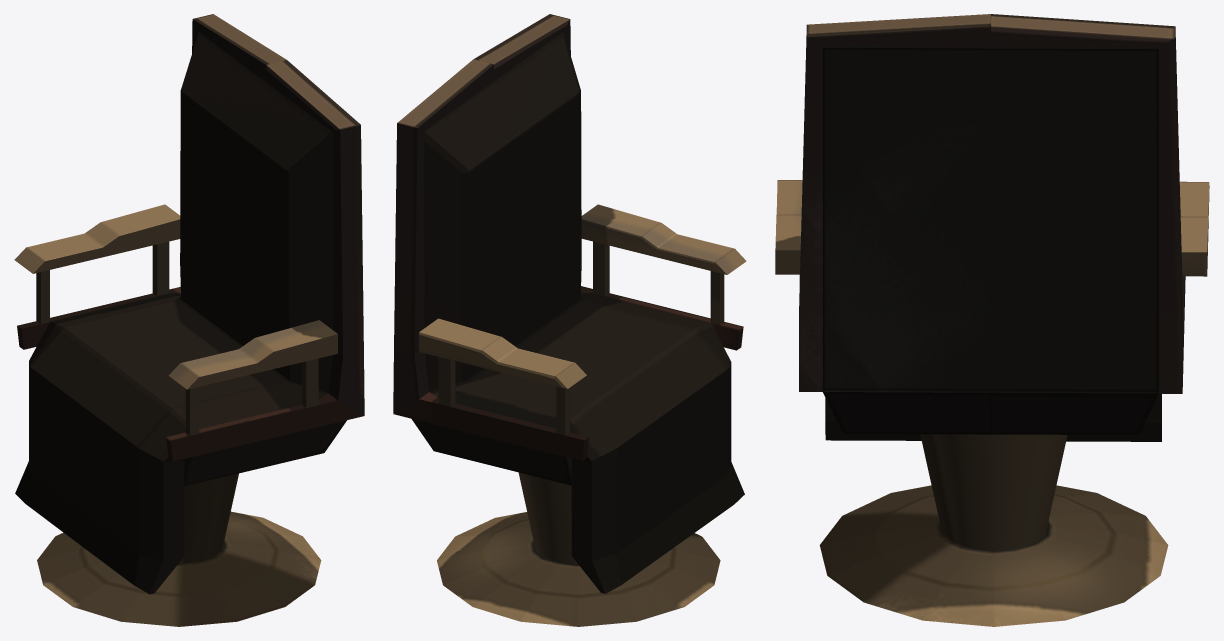
The model's file is Tx_prop_barber_chair_1.fbx.
The picture shows the model from 3 angles, left to right: view 1: azimuth 30°, elevation 25°; view 2: azimuth 150°, elevation 25°; view 3: azimuth 270°, elevation 25°; orthographic projection. The views are drawn at different scales.
Parts seen in each view (by area): view 1: polySurface37, polySurface33, polySurface40, polySurface34, polySurface36, polySurface38, polySurface35, polySurface39; view 2: polySurface37, polySurface33, polySurface40, polySurface39, polySurface38, polySurface36, polySurface35, polySurface34; view 3: polySurface37, polySurface33, polySurface40, polySurface35, polySurface38, polySurface36.
Boxes of the visible parts, box(x1,y1,x2,y2) form: polySurface37: box(15, 32, 333, 594); polySurface33: box(37, 473, 321, 626); polySurface40: box(192, 14, 364, 415); polySurface34: box(166, 358, 363, 461); polySurface36: box(168, 320, 337, 389); polySurface38: box(14, 204, 180, 273); polySurface35: box(184, 420, 346, 486); polySurface39: box(17, 241, 180, 349); polySurface37: box(424, 32, 744, 593); polySurface33: box(437, 417, 720, 626); polySurface40: box(393, 14, 570, 413); polySurface39: box(393, 357, 588, 461); polySurface38: box(419, 318, 586, 388); polySurface36: box(581, 204, 746, 274); polySurface35: box(405, 392, 571, 485); polySurface34: box(581, 241, 743, 350); polySurface37: box(822, 47, 1161, 441); polySurface33: box(819, 434, 1168, 626); polySurface40: box(799, 14, 1182, 393); polySurface35: box(823, 392, 1158, 434); polySurface38: box(1179, 181, 1209, 276); polySurface36: box(775, 180, 802, 274).
Size of the model in its own units: 3.16 by 5.94 by 3.96.
